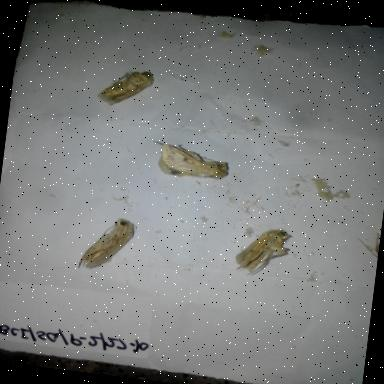abw: (72, 210, 142, 280), (144, 135, 236, 187), (229, 220, 300, 286), (92, 62, 162, 115)
